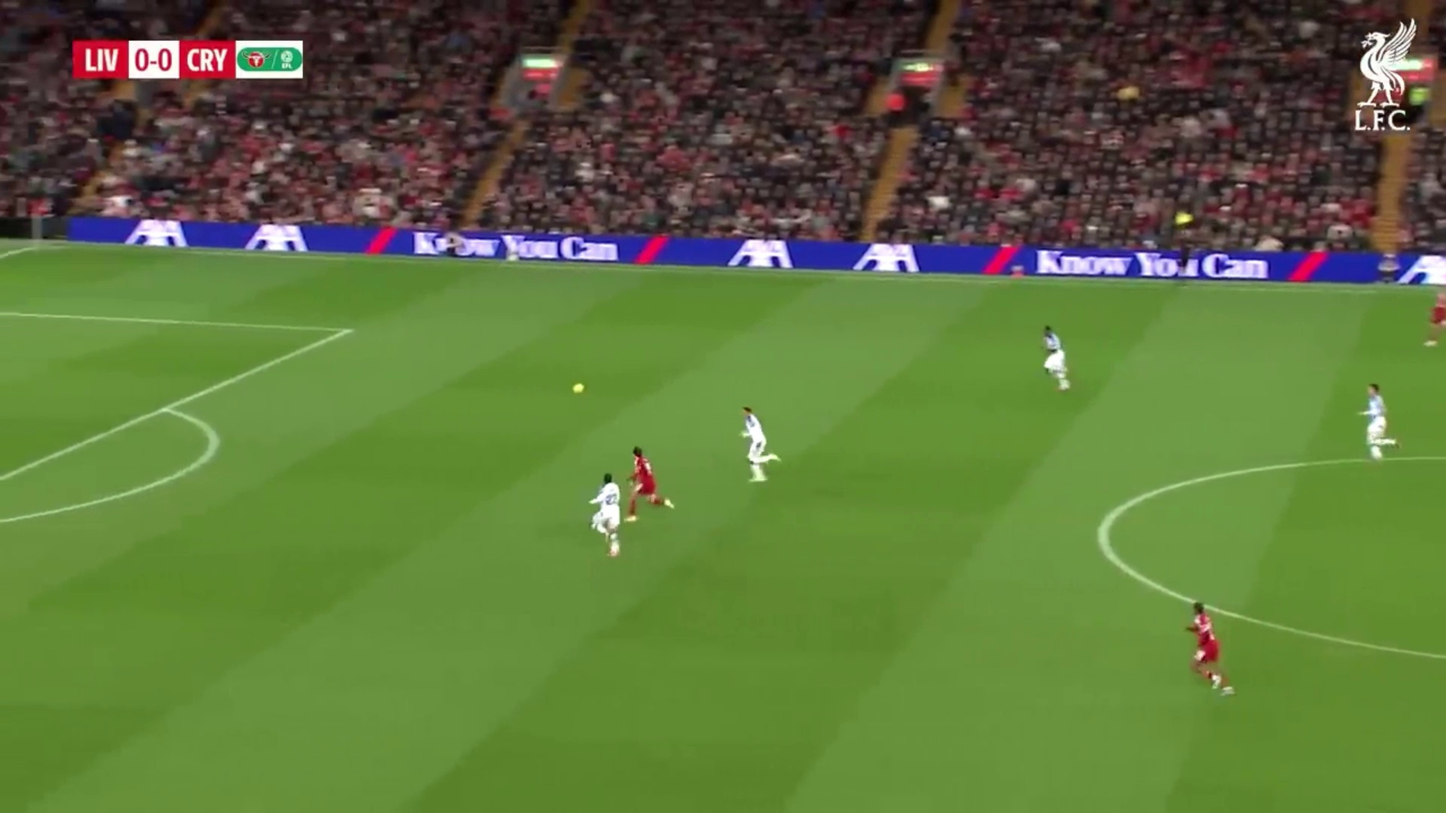player: (1184, 601, 1233, 694), (628, 446, 673, 515), (1361, 380, 1397, 460), (590, 474, 624, 558), (740, 406, 776, 483), (1040, 323, 1071, 393), (629, 445, 659, 513)
